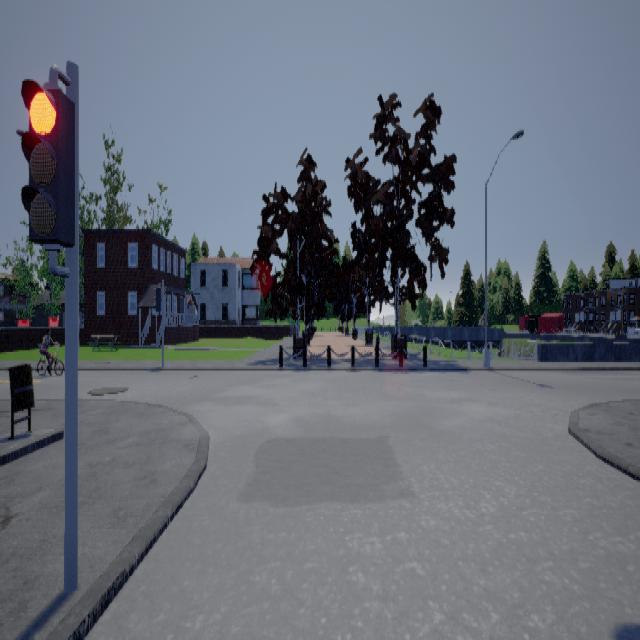bike: (37, 330, 65, 372)
red_light: (22, 62, 76, 276)
